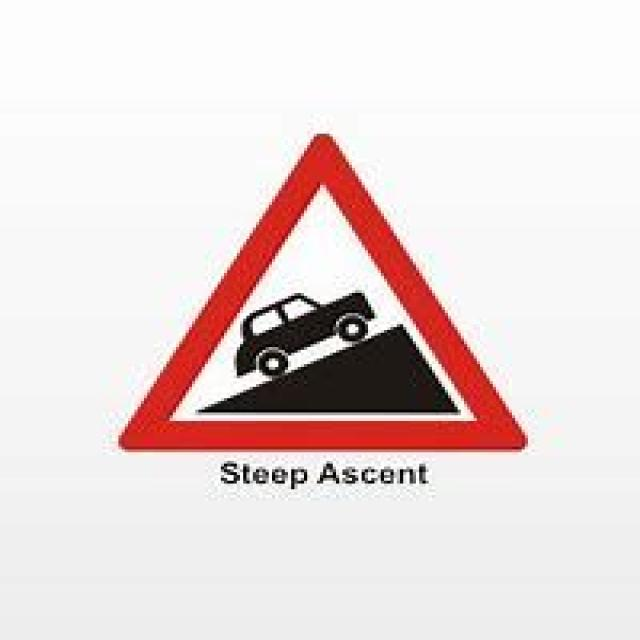STEEP_ASCENT: (104, 118, 535, 455)
